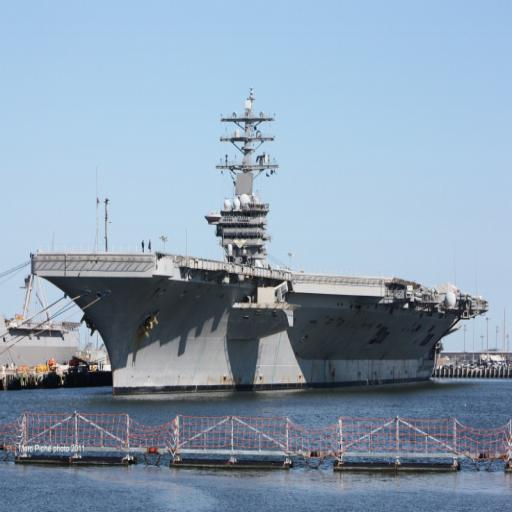Portanaves: (32, 100, 493, 403)
